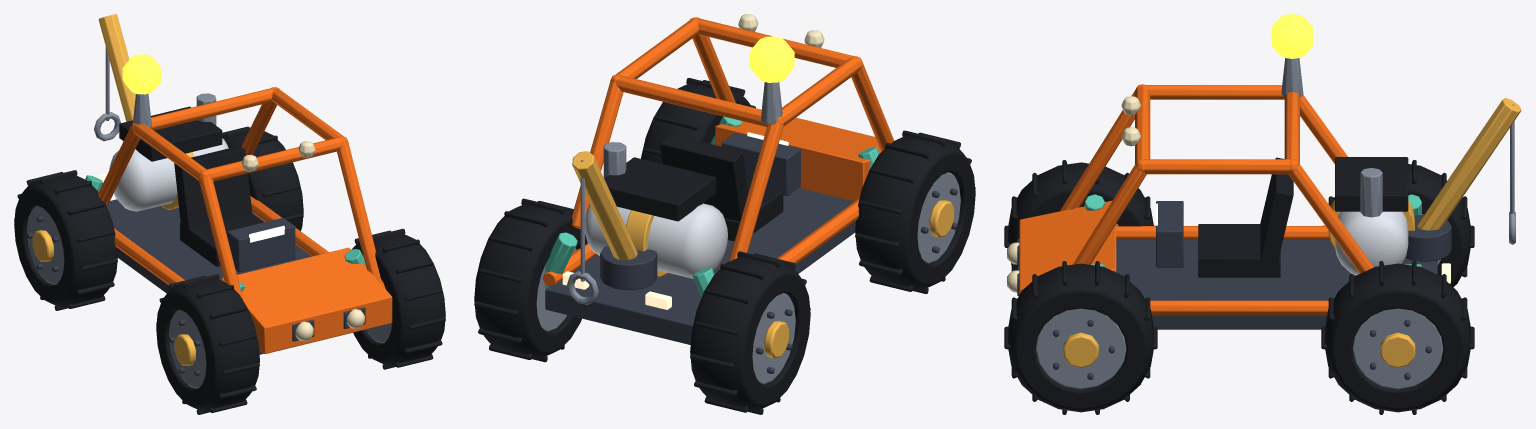
The model's file is suchtrupp.fbx.
The picture shows the model from 3 angles, left to right: view 1: azimuth 30°, elevation 25°; view 2: azimuth 150°, elevation 25°; view 3: azimuth 270°, elevation 25°; orthographic projection. The views are drawn at different scales.
Parts seen in each view (by area): view 1: suchtrupp_Koerper, suchtrupp; view 2: suchtrupp_Koerper, suchtrupp; view 3: suchtrupp_Koerper, suchtrupp.
Part boxes in pixels (<box>): suchtrupp_Koerper: <box>85,14,392,354</box>; suchtrupp: <box>14,126,445,414</box>; suchtrupp_Koerper: <box>543,14,894,344</box>; suchtrupp: <box>474,78,975,414</box>; suchtrupp_Koerper: <box>1007,14,1521,329</box>; suchtrupp: <box>1004,160,1474,414</box>.
Size of the model in its own units: 1.34 by 1.47 by 2.26.
